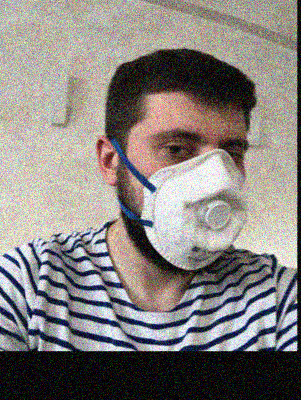with_mask: (138, 112, 249, 275)
